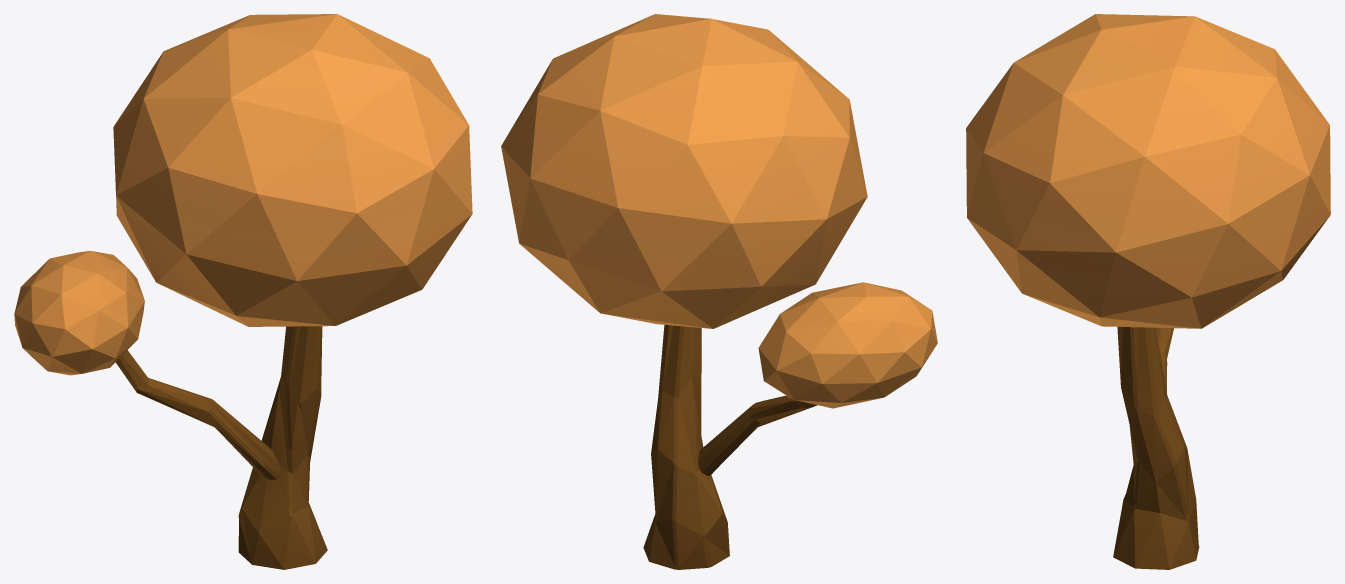
The model's file is tree_round.glb.
The picture shows the model from 3 angles, left to right: view 1: azimuth 30°, elevation 25°; view 2: azimuth 150°, elevation 25°; view 3: azimuth 270°, elevation 25°; orthographic projection.
Visible parts, largest first — view 1: tree_round; view 2: tree_round; view 3: tree_round.
Part boxes in pixels (x1,y1,x2,y2): tree_round: [14, 14, 472, 569]; tree_round: [501, 14, 937, 569]; tree_round: [966, 14, 1330, 569].
Size of the model in its own units: 2.93 by 3.5 by 2.21.
Materials: 1 (1 with a texture image).
